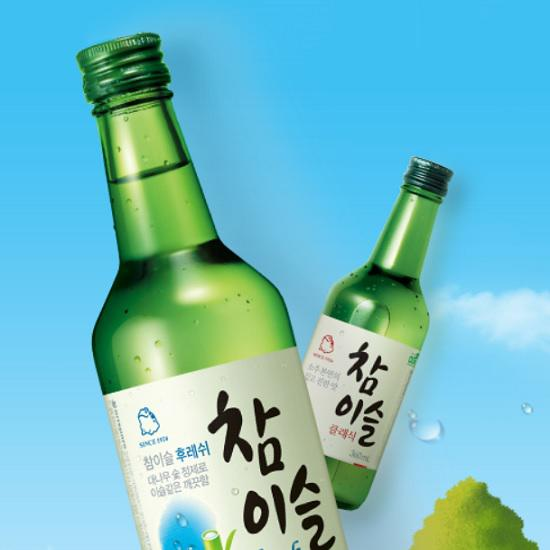soju: (69, 30, 348, 550), (301, 152, 457, 511)
